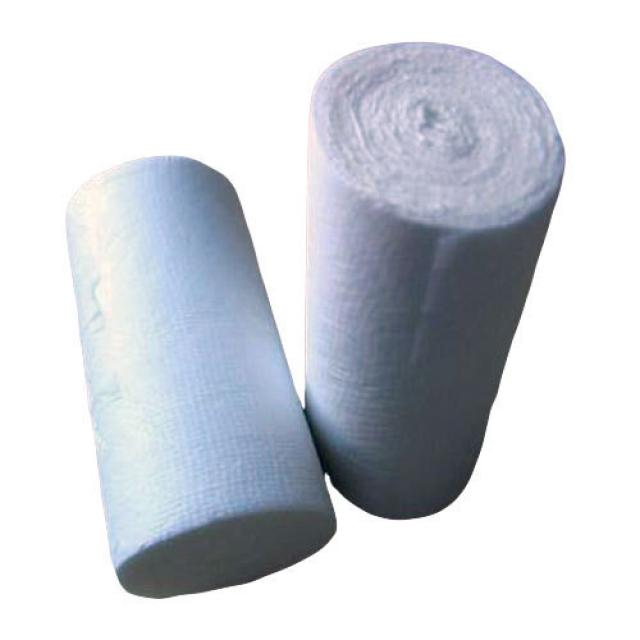B3: (300, 36, 578, 554), (54, 145, 352, 600)
